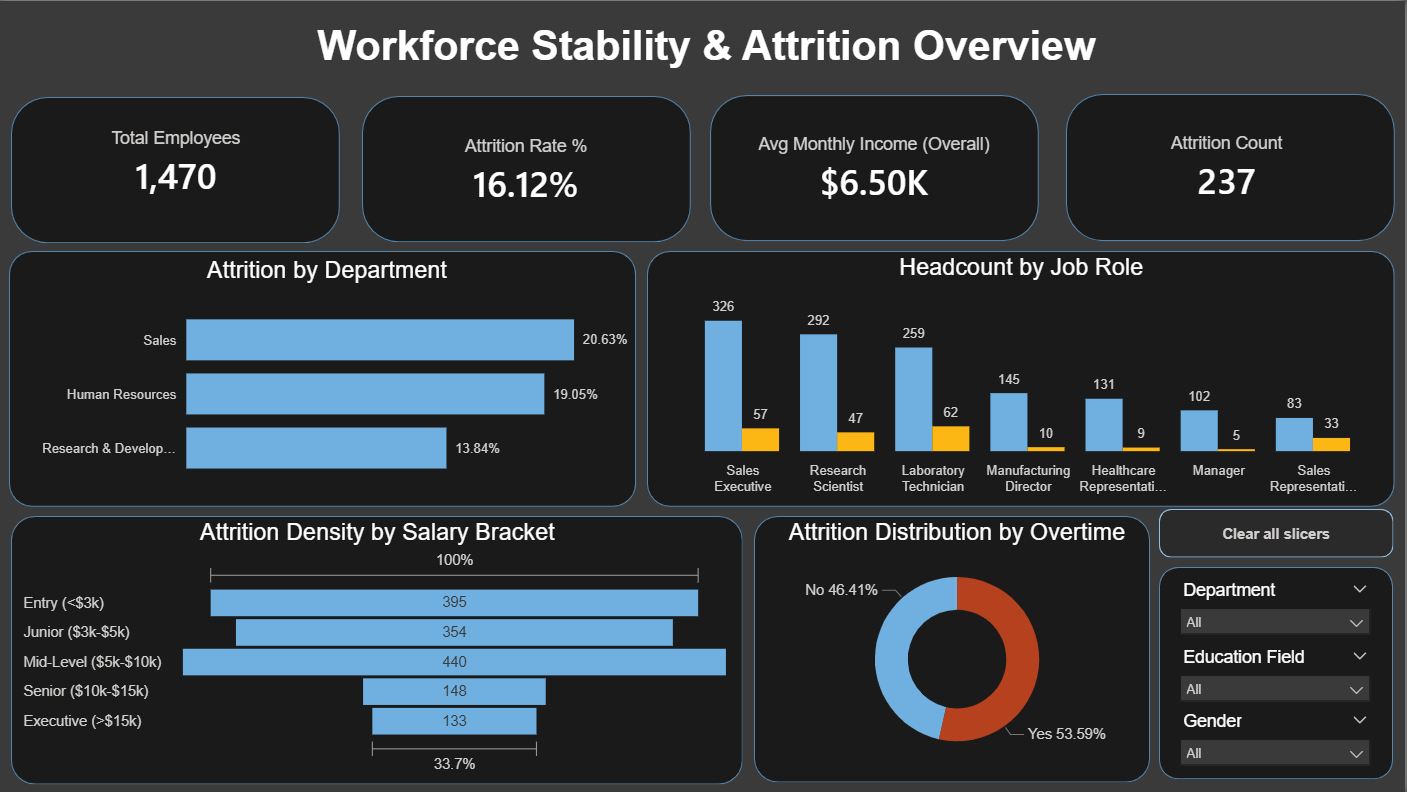

What the dashboard file says about the page in this screenshot:
{"tool":"powerbi","page":{"name":"📊 Executive Overview","canvas":[1280,720],"ordinal":1},"visuals":[{"type":"group","id":"g1","title":"Background","box":[11,84.4,1260.2,628.1],"z":0},{"type":"shape","box":[11,226.8,570.1,232.5],"z":0,"group":"g1"},{"type":"textbox","box":[9.7,0,1270.3,68.1],"z":1000},{"type":"shape","box":[591,226.8,679.6,232.5],"z":1000,"group":"g1"},{"type":"clusteredBarChart","title":"Attrition by Department","fields":{"Category":["v_DimJobDetails.Department"],"Y":["_Measures.Attrition Rate %"]},"box":[18.9,232.5,562,219.1],"z":2000},{"type":"shape","box":[13.2,468.3,665.2,244.2],"z":2000,"group":"g1"},{"type":"clusteredColumnChart","title":"Headcount by Job Role","fields":{"Category":["v_DimJobDetails.Job Role"],"Y":["_Measures.Total Employees","_Measures.Attrition Count"]},"box":[590.7,229.8,680.5,226.2],"z":3000},{"type":"shape","box":[688.3,468.3,360,242.4],"z":3000,"group":"g1"},{"type":"donutChart","title":"Attrition Distribution by Overtime","fields":{"Category":["v_DimJobDetails.Overtime Status"],"Y":["Sum(v_FactHRPerformance.Attrition Flag)"]},"box":[697.6,471.3,351,230.7],"z":4000},{"type":"shape","box":[1056.4,514.1,212.8,193],"z":4000,"group":"g1"},{"type":"shape","box":[12.6,86.7,299,133],"z":5000,"group":"g1"},{"type":"funnel","title":"Attrition Density by Salary Bracket","fields":{"Category":["v_FactHRPerformance.Monthly Income Band"],"Y":["CountNonNull(v_FactHRPerformance.Attriton Status)"]},"box":[18.9,471.3,653.6,236.1],"z":5000},{"type":"shape","box":[331.8,86.4,299,133],"z":6000,"group":"g1"},{"type":"slicer","fields":{"Values":["v_DimJobDetails.Department"]},"box":[1065.8,521.6,192.5,64.8],"z":6000},{"type":"shape","box":[648.3,84.9,299,132.9],"z":7000,"group":"g1"},{"type":"slicer","fields":{"Values":["v_DimEmployeeDetails.Education Field"]},"box":[1065.8,582.5,192.5,64],"z":7000},{"type":"shape","box":[972.2,84.4,299,133.8],"z":8000,"group":"g1"},{"type":"slicer","fields":{"Values":["v_DimEmployeeDetails.Gender"]},"box":[1065.8,640.5,192.5,64],"z":8000},{"type":"actionButton","box":[1056,461.7,213.2,44.2],"z":9000},{"type":"cardVisual","fields":{"Data":["_Measures.Total Employees"]},"box":[18.9,70.9,287.3,153.5],"z":10000},{"type":"cardVisual","fields":{"Data":["_Measures.Attrition Rtae %"]},"box":[332.2,74.5,299,161.6],"z":11000},{"type":"cardVisual","fields":{"Data":["_Measures.Average Monthly Income"]},"box":[648.2,70,299,166.1],"z":12000},{"type":"cardVisual","fields":{"Data":["_Measures.Attrition Count"]},"box":[972.3,73.6,292.7,158.9],"z":13000}]}

Visuals, with their boxes in screenshot pixels (x1, y1, x2, y2), scaled from the page's 1280x720 canvas onto the 1407x792 screenshot:
"Background" group: locate(12, 93, 1397, 784)
shape: locate(12, 249, 639, 505)
textbox: locate(11, 0, 1406, 75)
shape: locate(650, 249, 1397, 505)
"Attrition by Department" clusteredBarChart: locate(21, 256, 639, 497)
shape: locate(15, 515, 746, 784)
"Headcount by Job Role" clusteredColumnChart: locate(649, 253, 1397, 502)
shape: locate(757, 515, 1152, 782)
"Attrition Distribution by Overtime" donutChart: locate(767, 518, 1153, 772)
shape: locate(1161, 566, 1395, 778)
shape: locate(14, 95, 343, 242)
"Attrition Density by Salary Bracket" funnel: locate(21, 518, 739, 778)
shape: locate(365, 95, 693, 241)
slicer - v_DimJobDetails.Department: locate(1172, 574, 1383, 645)
shape: locate(713, 93, 1041, 240)
slicer - v_DimEmployeeDetails.Education Field: locate(1172, 641, 1383, 711)
shape: locate(1069, 93, 1397, 240)
slicer - v_DimEmployeeDetails.Gender: locate(1172, 705, 1383, 775)
actionButton: locate(1161, 508, 1395, 556)
cardVisual - _Measures.Total Employees: locate(21, 78, 337, 247)
cardVisual - _Measures.Attrition Rtae %: locate(365, 82, 694, 260)
cardVisual - _Measures.Average Monthly Income: locate(713, 77, 1041, 260)
cardVisual - _Measures.Attrition Count: locate(1069, 81, 1391, 256)
